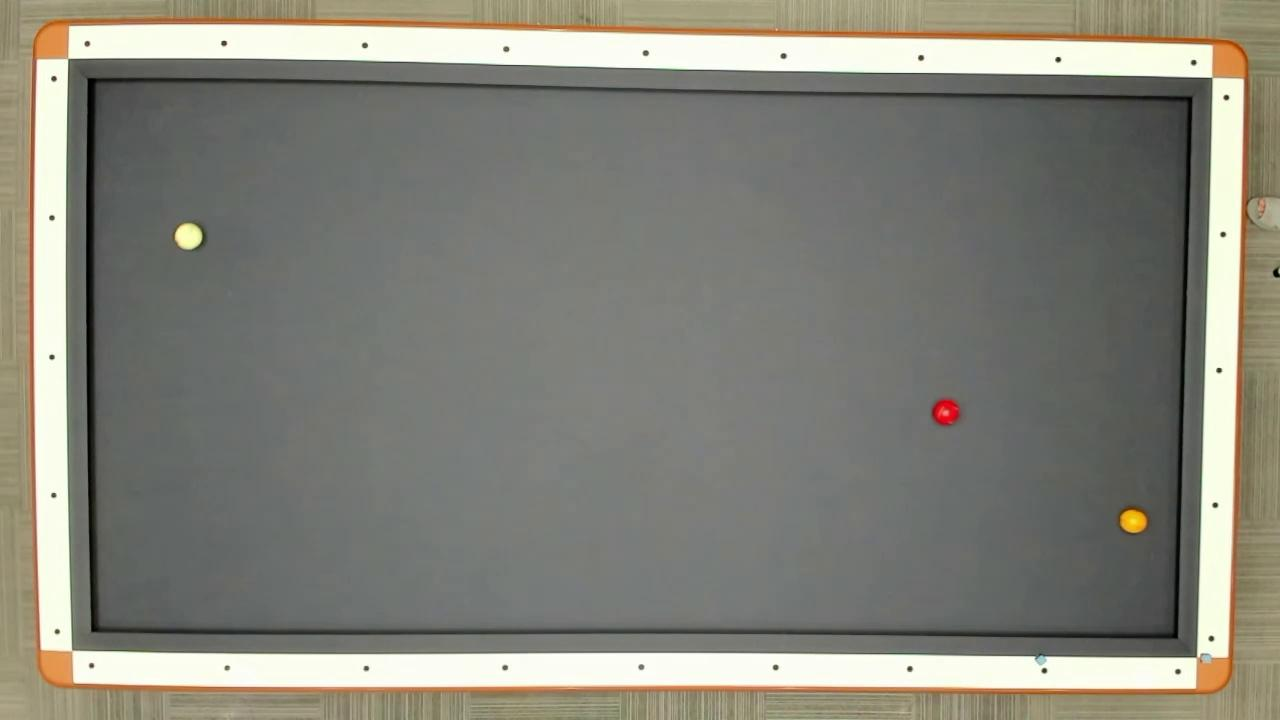Red: (930, 397, 961, 427)
White: (172, 222, 206, 252)
Yellow: (1118, 506, 1149, 536)
